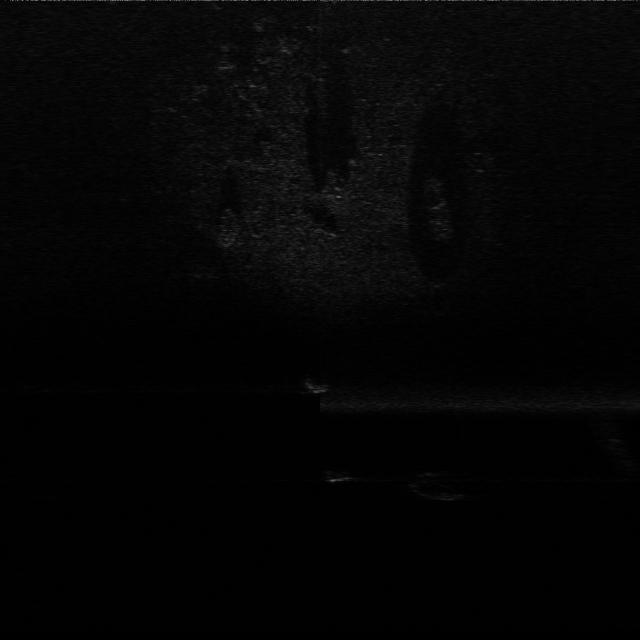cube: (324, 462, 358, 484)
square cage: (290, 373, 336, 396)
tyre: (412, 468, 467, 505)
